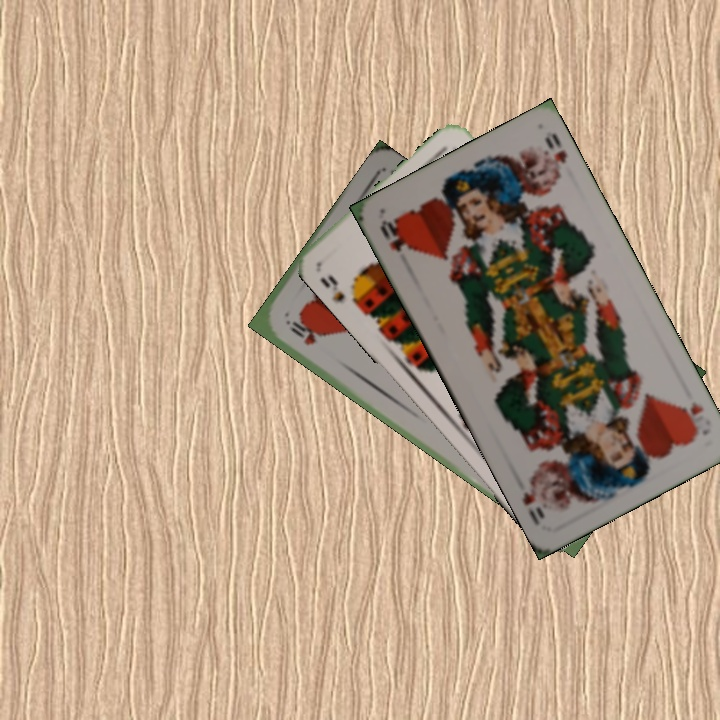HO: (376, 216, 412, 254), (281, 315, 319, 349), (676, 398, 707, 438)
S9: (316, 271, 364, 311)
